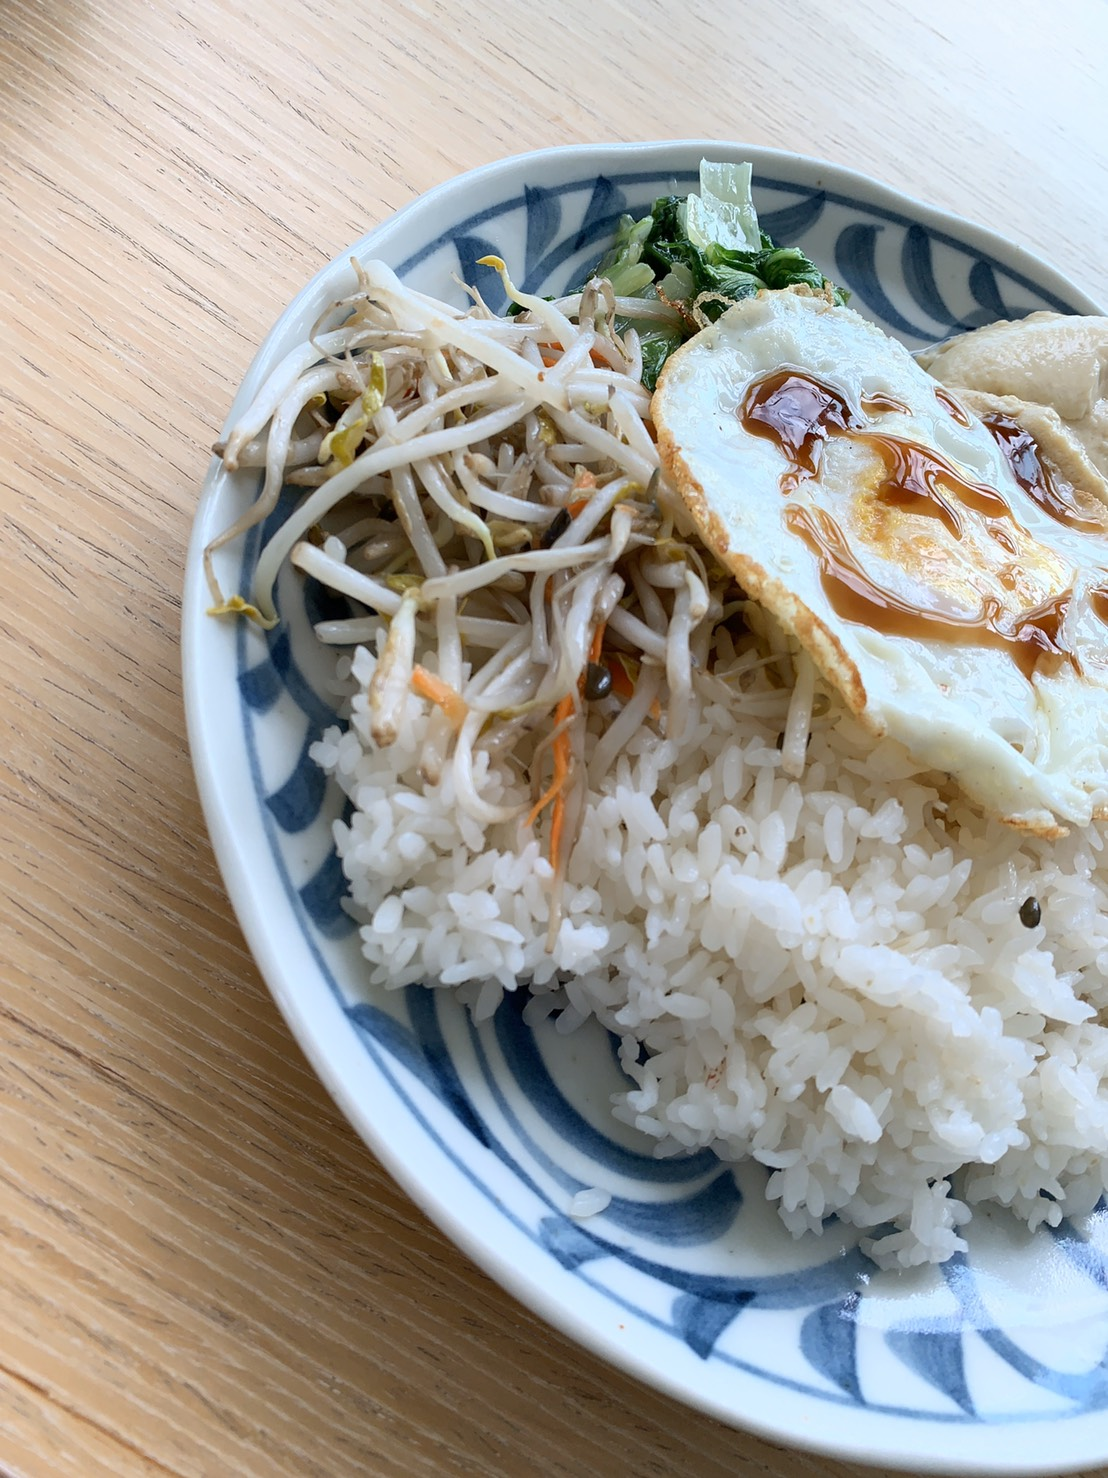fried_eggs: (666, 285, 1108, 826)
mung_bean_sprouts: (311, 299, 669, 599)
rice: (492, 793, 1108, 1181)
